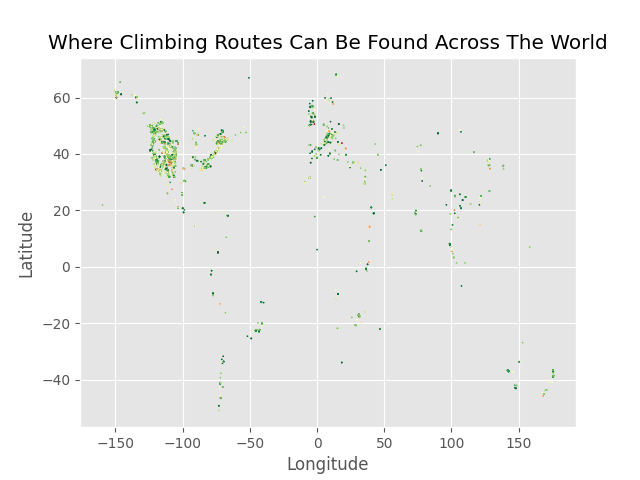

This screenshot's page, from the dashboard's own definition file:
{"tool":"powerbi","page":{"name":"Map","canvas":[1280,720],"ordinal":2},"visuals":[{"type":"map","fields":{"Y":["outputted_df.Area_Latitude"],"X":["outputted_df.Area_Longitude"],"Series":["outputted_df.Avg_Stars"],"Size":["Sum(outputted_df.Num_Votes)"]},"box":[0,0,1280,720],"z":0}]}

Visuals, with their boxes on the page's 1280x720 design canvas (x1, y1, x2, y2). These are canvas units, not pixel positions in the 640x480 screenshot, which may show the page scaled, cropped or inside an application window:
map - outputted_df.Area_Latitude x outputted_df.Area_Longitude: bbox(0, 0, 1280, 720)
